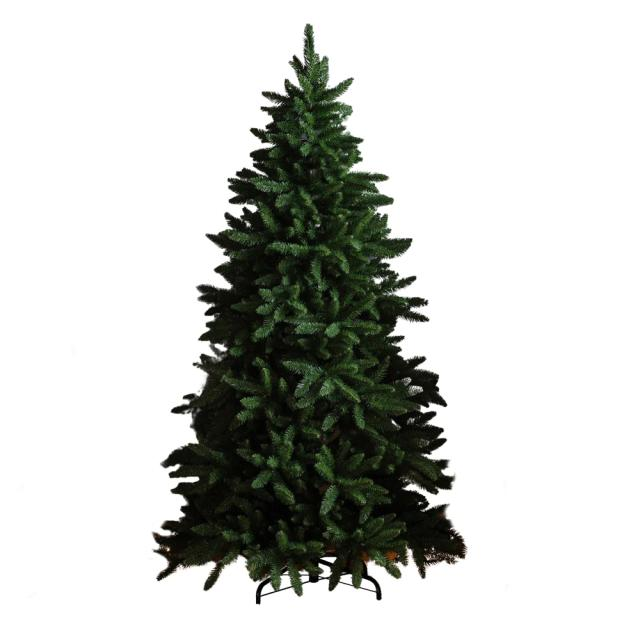Christmas-tree: (136, 9, 475, 586)
